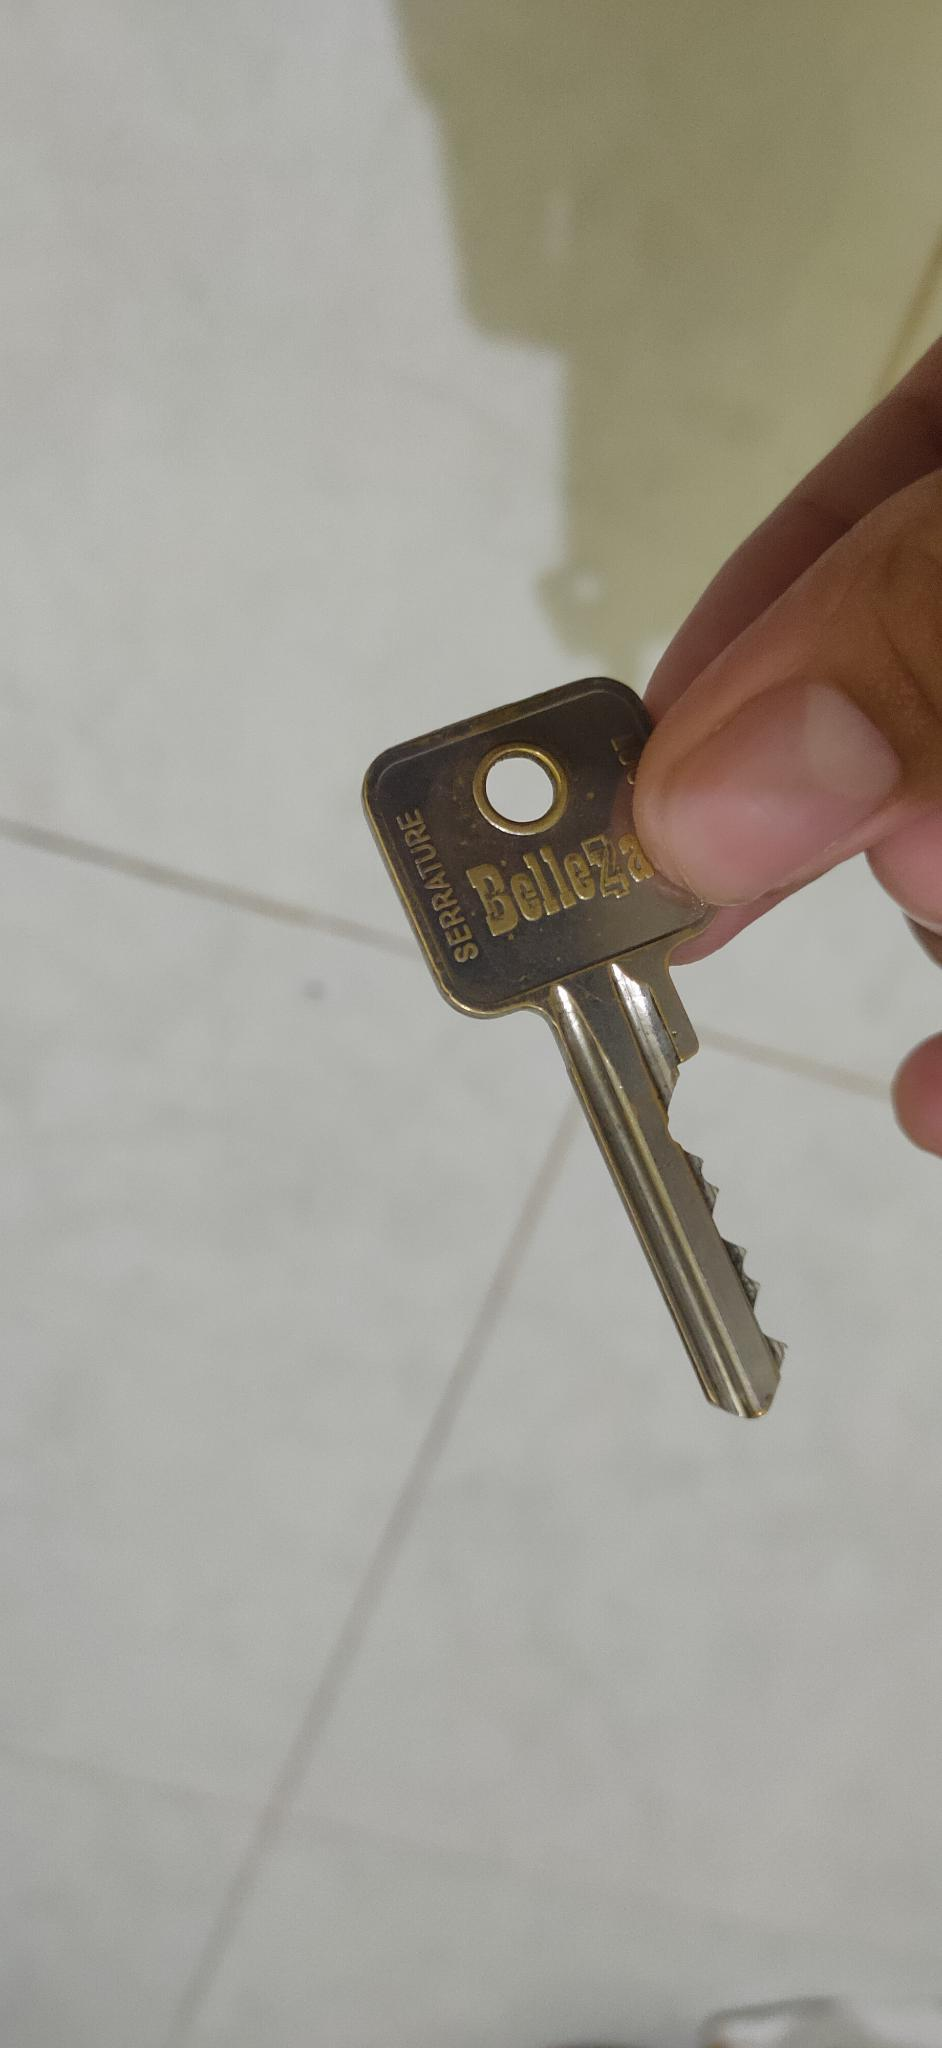keys: (338, 677, 797, 1448)
